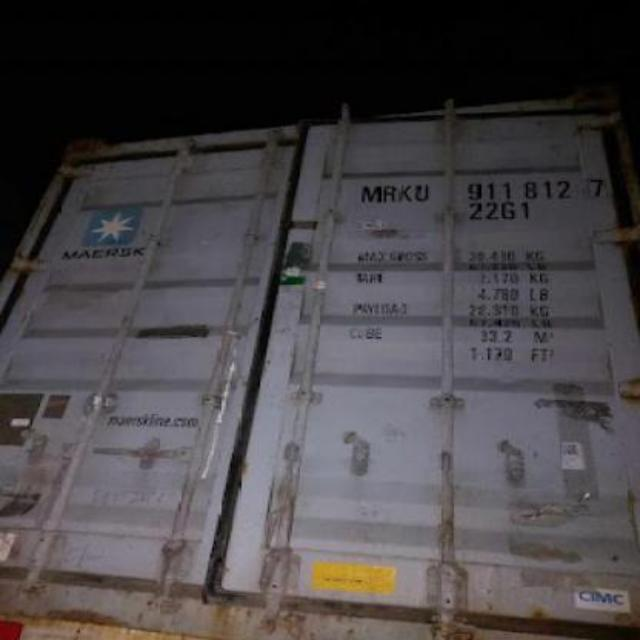1: (542, 177, 556, 201), (502, 181, 516, 197), (486, 182, 499, 198)
2: (556, 178, 574, 202)
7: (588, 178, 606, 198)
8: (520, 178, 540, 202)
9: (466, 182, 484, 196)
K: (398, 185, 414, 203)
M: (358, 185, 382, 203)
R: (382, 184, 398, 206)
U: (416, 182, 434, 204)
